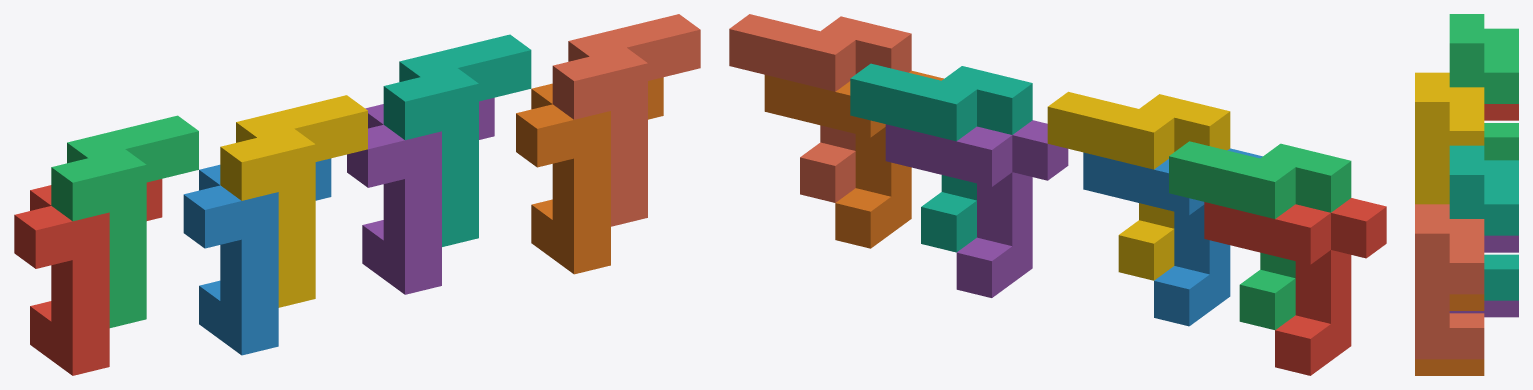
File: tiling.obj
The picture shows the model from 3 angles, left to right: view 1: azimuth 30°, elevation 25°; view 2: azimuth 150°, elevation 25°; view 3: azimuth 270°, elevation 25°; orthographic projection. The views are drawn at different scales.
Visible parts, largest first — view 1: copy_1_domain_3, copy_1_domain_4, copy_1_domain_7, copy_1_domain_8, copy_1_domain_2, copy_1_domain_1, copy_1_domain_6, copy_1_domain_5; view 2: copy_1_domain_1, copy_1_domain_5, copy_1_domain_3, copy_1_domain_7, copy_1_domain_4, copy_1_domain_8, copy_1_domain_6, copy_1_domain_2; view 3: copy_1_domain_8, copy_1_domain_7, copy_1_domain_4, copy_1_domain_3, copy_1_domain_6, copy_1_domain_5, copy_1_domain_1.
Boxes of the visible parts, x1,y1,x2,y2 form: copy_1_domain_3: (51,115,198,327); copy_1_domain_4: (220,95,367,307); copy_1_domain_7: (383,34,531,246); copy_1_domain_8: (552,14,700,226); copy_1_domain_2: (183,158,331,355); copy_1_domain_1: (14,179,162,375); copy_1_domain_6: (516,77,663,274); copy_1_domain_5: (347,97,494,294); copy_1_domain_1: (1204,198,1386,375); copy_1_domain_5: (885,120,1068,297); copy_1_domain_3: (1169,141,1351,329); copy_1_domain_7: (850,63,1032,252); copy_1_domain_4: (1047,91,1230,280); copy_1_domain_8: (729,14,911,202); copy_1_domain_6: (764,70,943,248); copy_1_domain_2: (1083,148,1262,326); copy_1_domain_8: (1415,204,1484,359); copy_1_domain_7: (1449,145,1518,300); copy_1_domain_4: (1415,72,1484,204); copy_1_domain_3: (1449,14,1518,160); copy_1_domain_6: (1415,294,1484,375); copy_1_domain_5: (1449,235,1518,317); copy_1_domain_1: (1484,104,1518,120).
Size of the model in its own units: 18 by 5 by 3.
